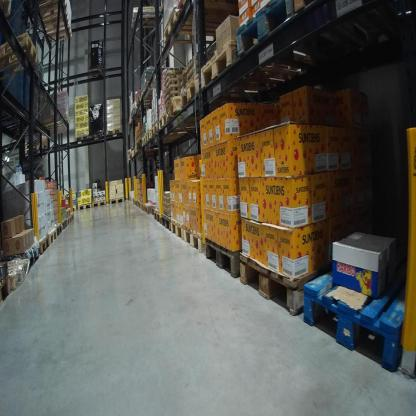pallet: (296, 247, 413, 372), (239, 241, 365, 323), (195, 36, 320, 108), (160, 10, 239, 58), (237, 3, 292, 51), (205, 234, 253, 283), (0, 32, 39, 84), (288, 2, 349, 27), (27, 17, 75, 46), (157, 114, 217, 136), (176, 70, 203, 116), (184, 222, 211, 257), (7, 257, 30, 297), (35, 115, 74, 138), (31, 2, 71, 19), (1, 273, 14, 318), (168, 90, 185, 124), (18, 245, 38, 273), (128, 13, 158, 31), (171, 217, 184, 257), (22, 140, 51, 157), (31, 235, 51, 259), (89, 124, 106, 148), (87, 62, 106, 81), (74, 130, 92, 149), (1, 1, 16, 23), (104, 125, 123, 140), (146, 123, 158, 145), (161, 213, 171, 239), (153, 204, 163, 230), (108, 193, 125, 207), (143, 197, 155, 216), (46, 227, 56, 247), (21, 137, 41, 147), (76, 200, 93, 211), (56, 219, 67, 235), (130, 150, 153, 157), (93, 199, 107, 209), (142, 132, 150, 148), (65, 205, 74, 219), (54, 224, 62, 239), (136, 136, 141, 154), (66, 216, 71, 231), (129, 152, 136, 161), (70, 214, 74, 226), (132, 144, 136, 155), (71, 207, 77, 214)
